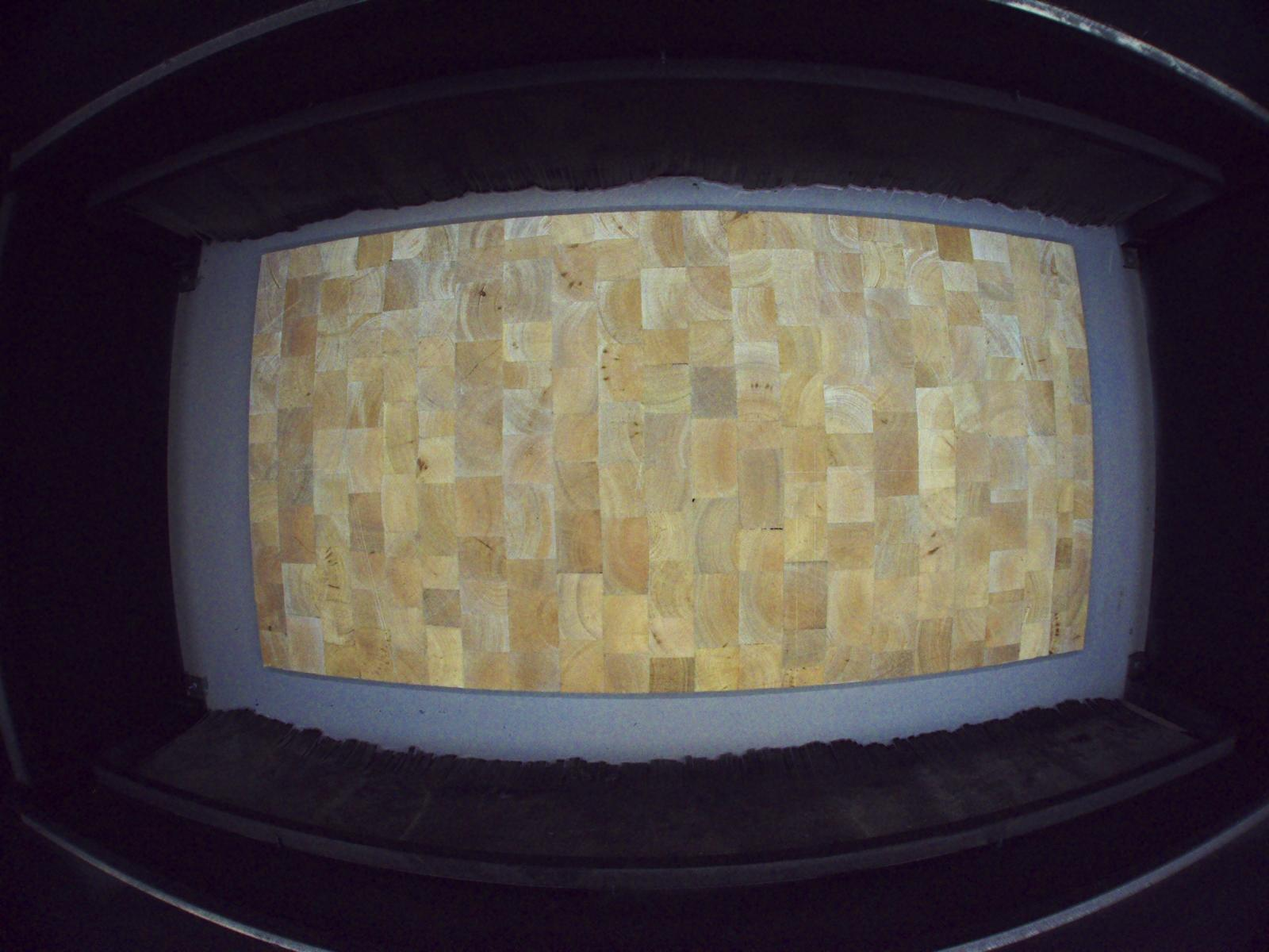sheck_ecuatoriano: (475, 280, 489, 309)
